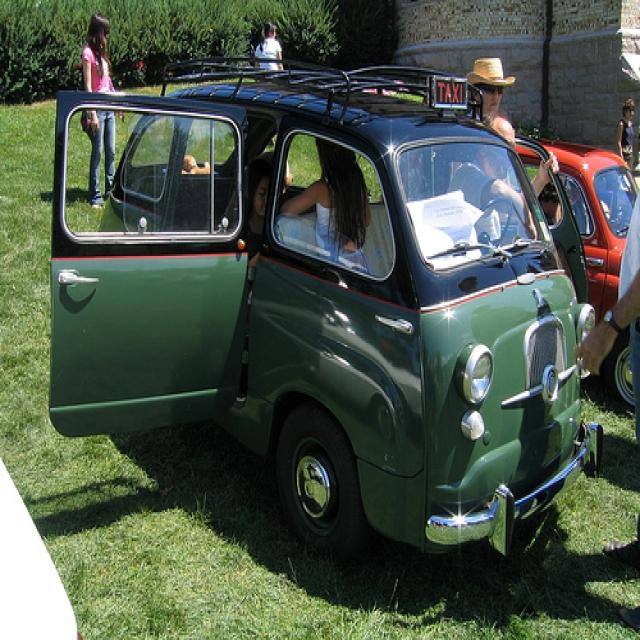light_vehicle: (47, 50, 603, 558), (509, 131, 639, 413)
